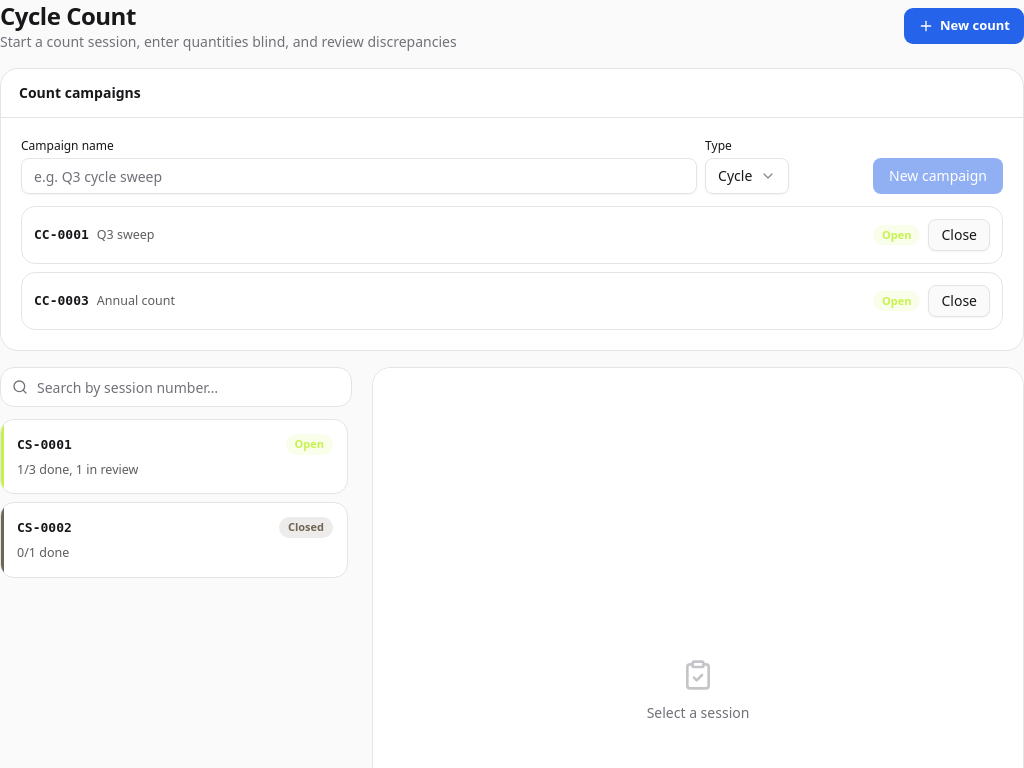
CycleCountPage › full inventory (St5) › the campaign select follows the count type (END_OF_PERIOD campaigns only)
Click the button "New count" at (964, 26), box [904,8,1023,44]
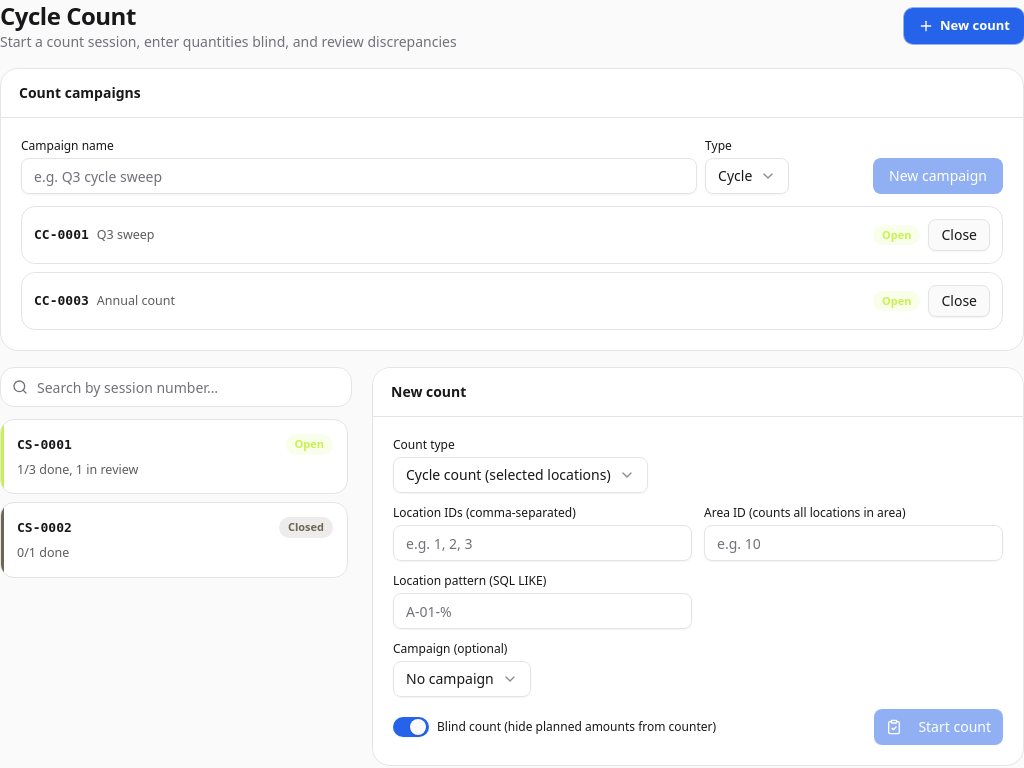
Click the dropdown with test id "count-type-select" at (520, 475), box [393,457,648,493]
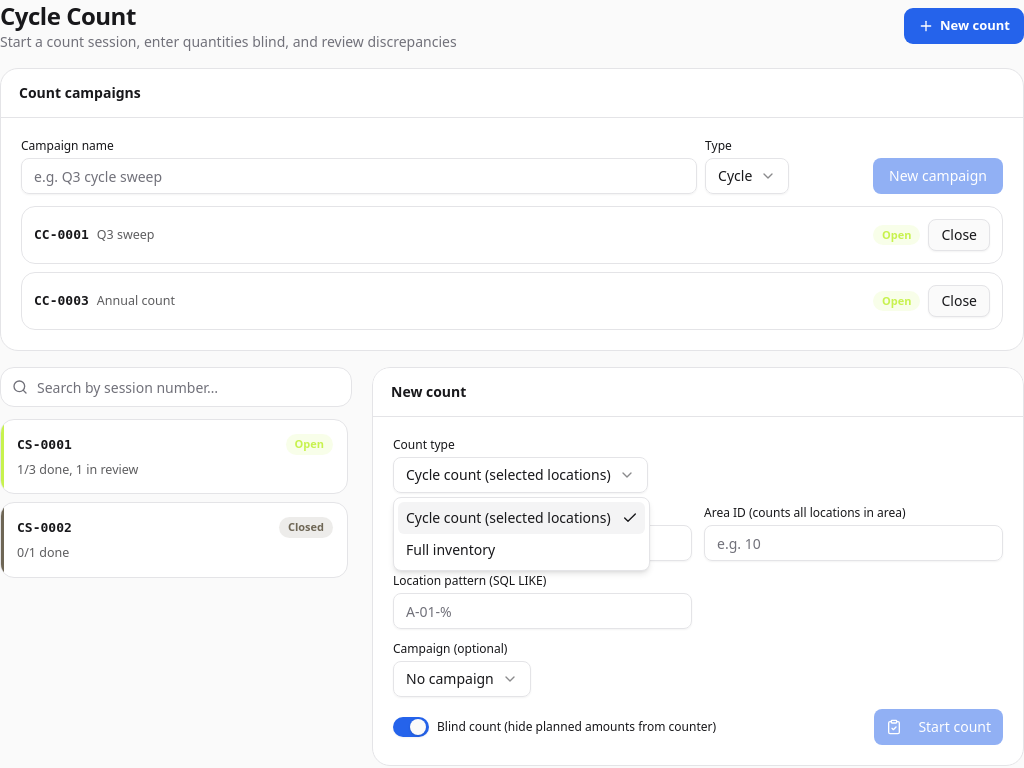
Click the option "Full inventory" at (451, 550), box [406,540,495,559]
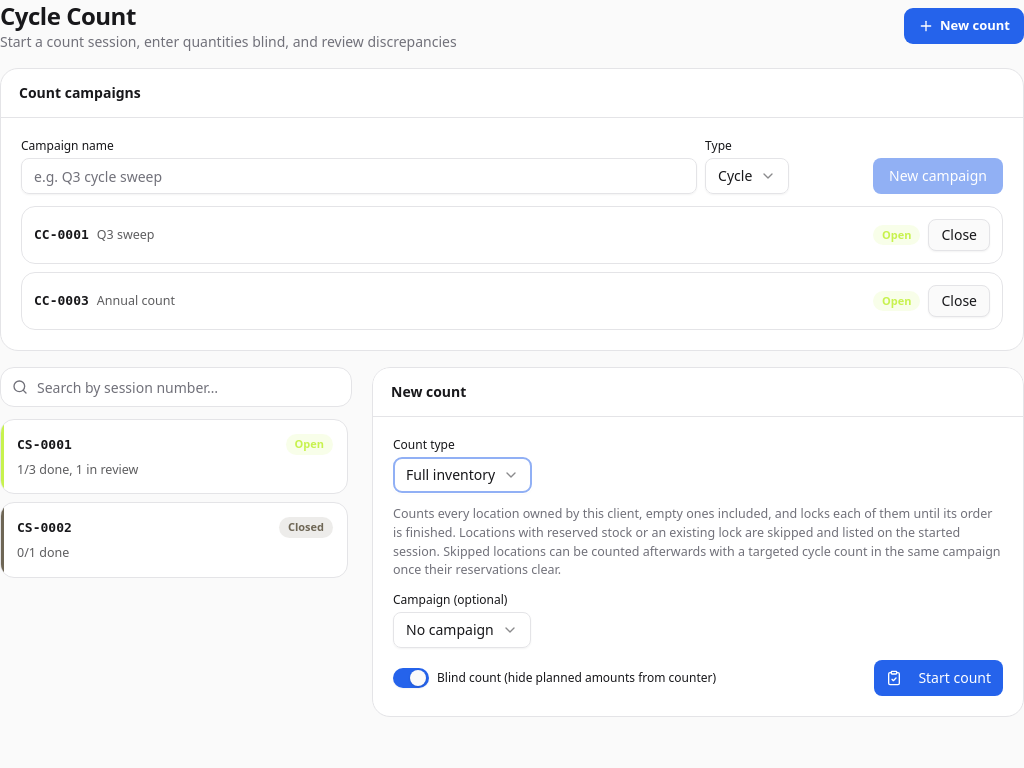
Click the dropdown with test id "campaign-select" at (462, 630), box [393,612,531,648]
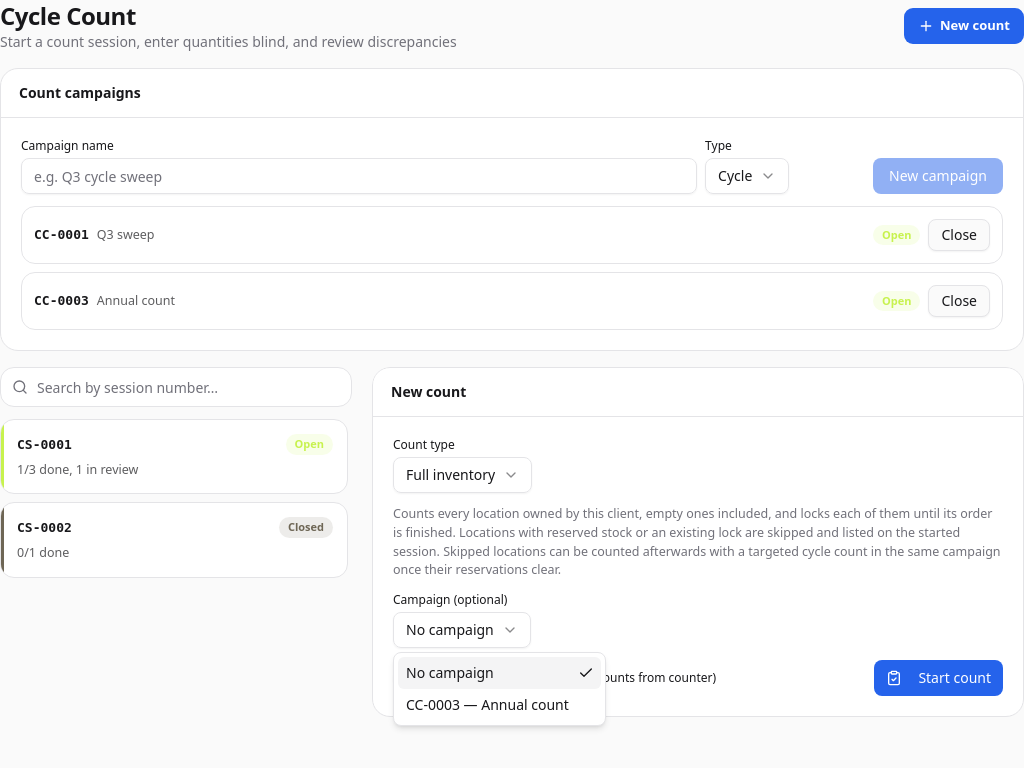
Expected: the text "CC-0003 — Annual count" is shown, [406,695,569,715]
